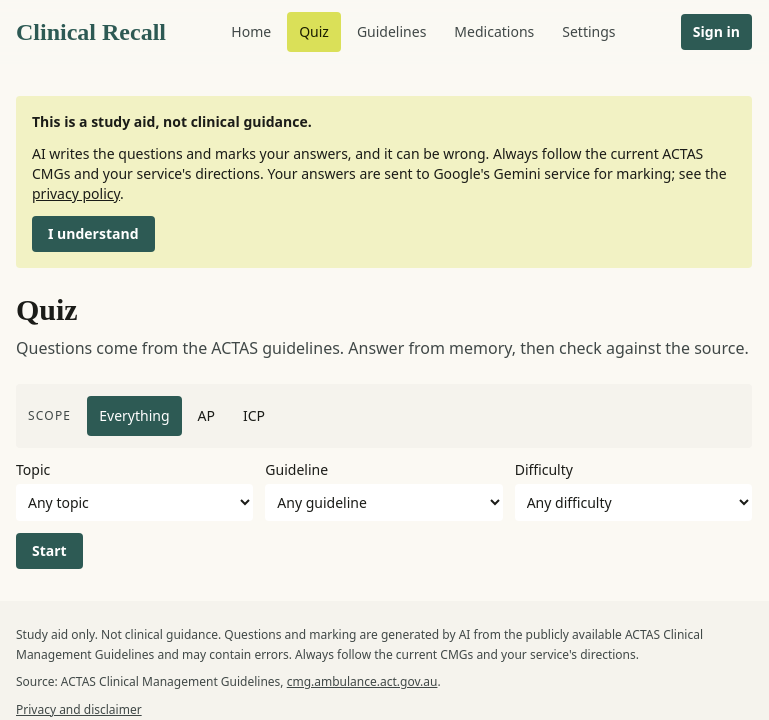
Scenario: self-marking › records a guest's self-marked answer in the browser
Click the button "Start". click: (49, 551)
box: [16,533,83,569]
(page scrolled)
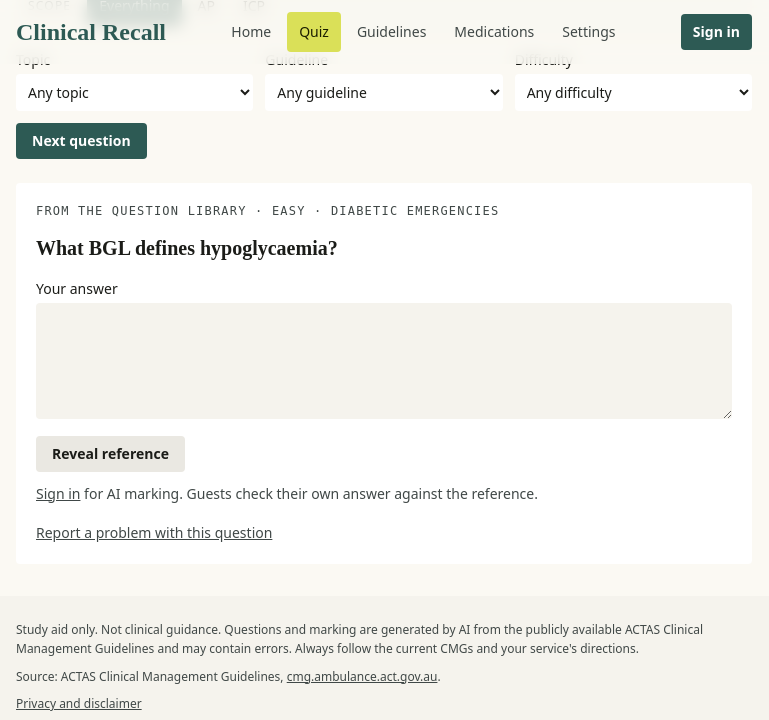
Type "Under 4" into the text box labelled "Your answer". click: (384, 360)
box: [36,302,732,418]
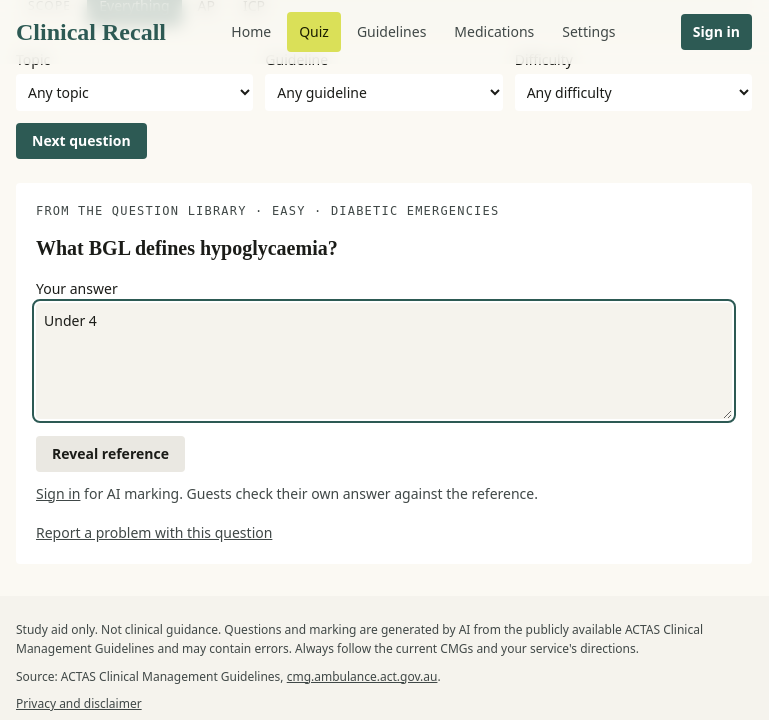
Click the button "Reveal reference". click: (110, 454)
box: [36,436,185,472]
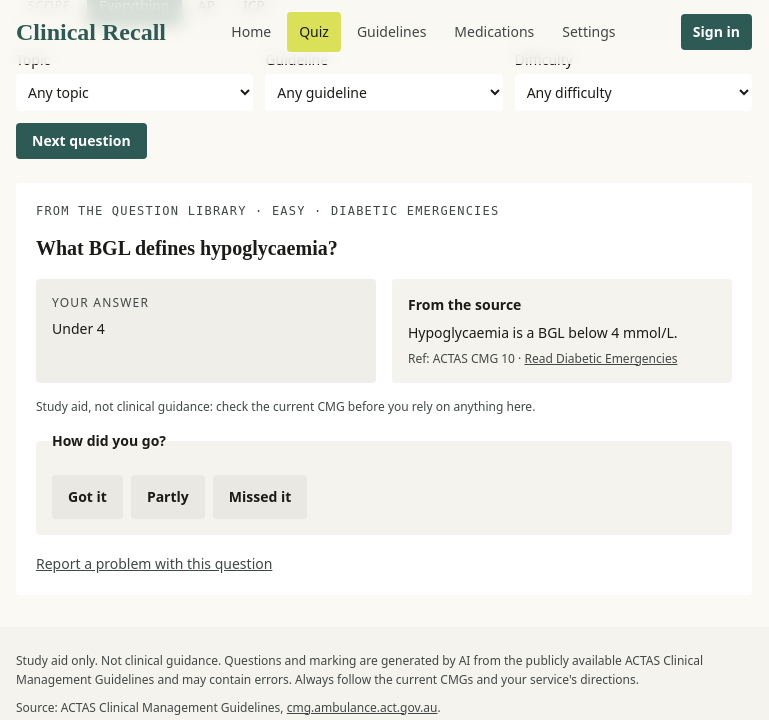
Expected: the text "Under 4" is shown, [52,318,105,338]
Click the button "Partly". click: (168, 496)
box: [131,474,205,518]
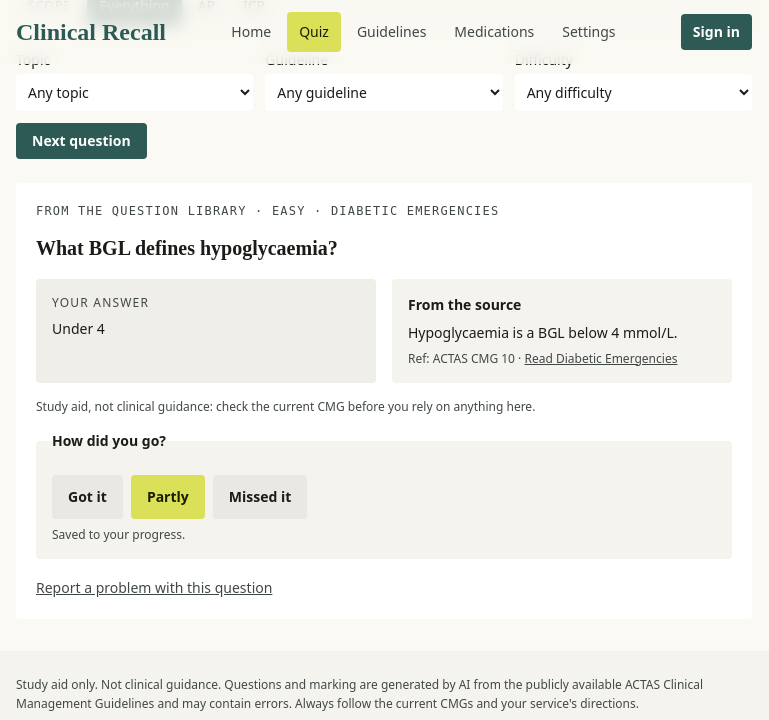
Expected: the text "Saved to your progress." is shown, [52,526,185,542]
